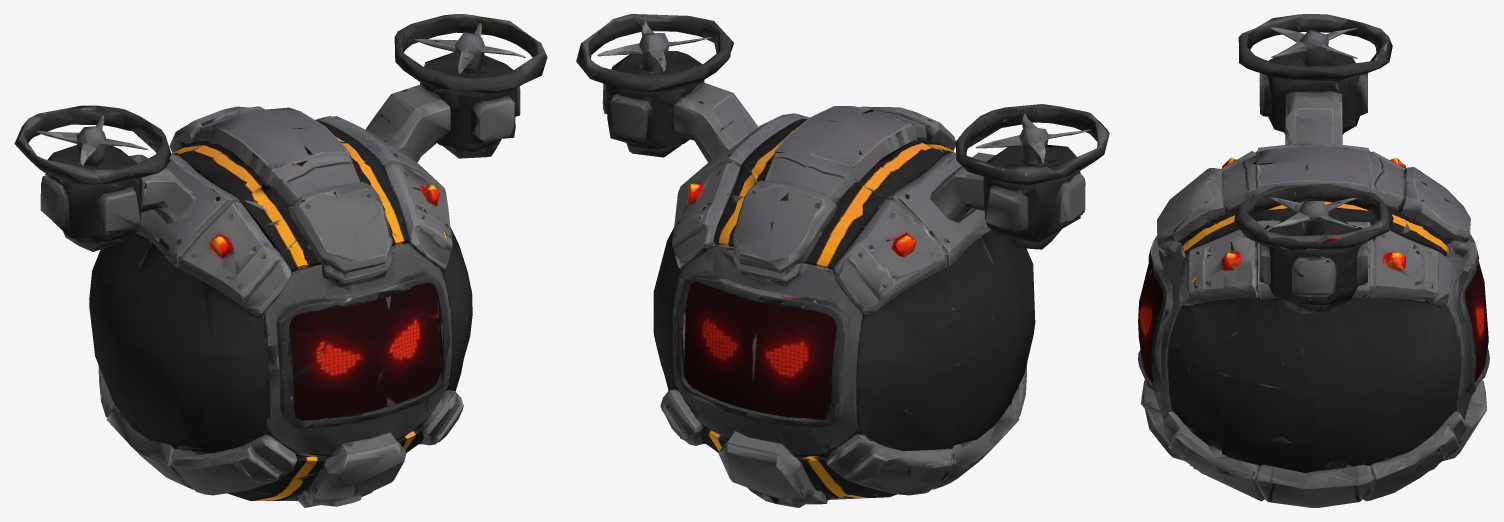
Rendered from runner-drone-ai.glb.
The picture shows the model from 3 angles, left to right: view 1: azimuth 30°, elevation 25°; view 2: azimuth 150°, elevation 25°; view 3: azimuth 270°, elevation 25°; orthographic projection. The views are drawn at different scales.
Bounding box in the file's own units: 1.89 × 1.45 × 1.25.
1 material, 1 textured.
